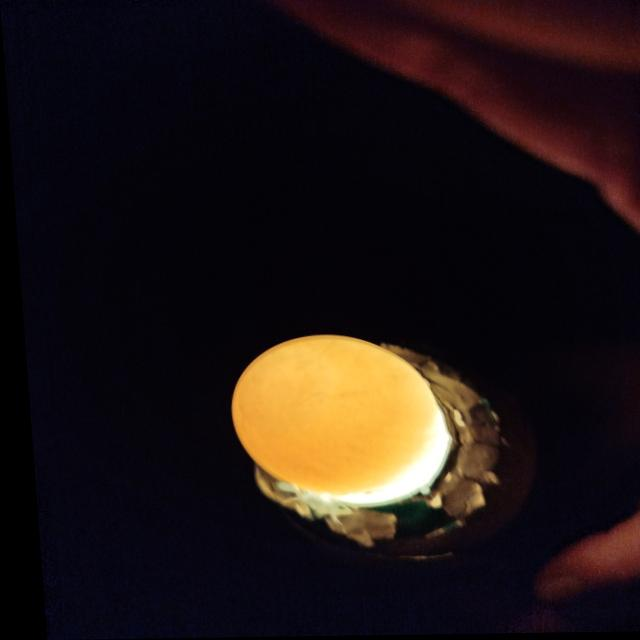Camara de Ar: (232, 353, 332, 428)
